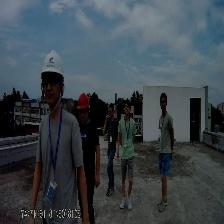Person: (33, 49, 73, 210), (78, 92, 101, 221), (157, 92, 173, 210), (119, 100, 135, 212), (104, 99, 118, 199)
helmet: (40, 52, 66, 76), (78, 93, 90, 110)
no-helmet: (160, 92, 168, 102), (107, 102, 114, 113), (123, 100, 131, 109)
no-vest: (39, 107, 76, 217), (79, 117, 96, 175), (120, 115, 134, 156), (158, 111, 171, 151), (106, 117, 116, 149)
